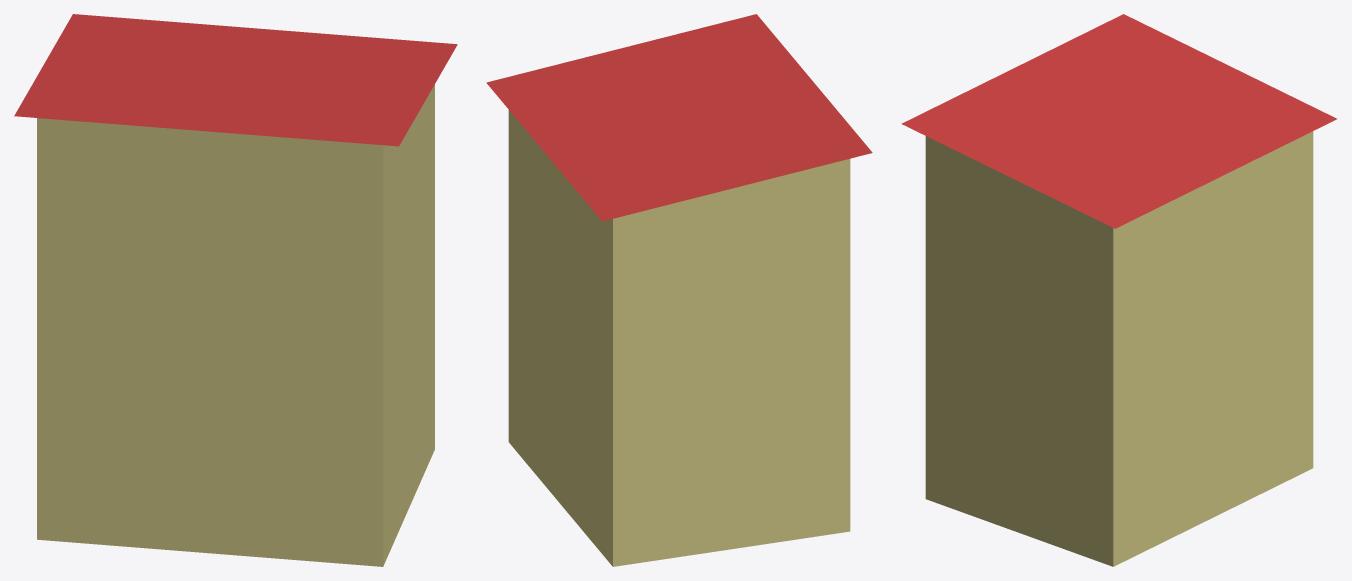
The picture shows the model from 3 angles, left to right: view 1: azimuth 30°, elevation 25°; view 2: azimuth 150°, elevation 25°; view 3: azimuth 270°, elevation 25°; orthographic projection. The views are drawn at different scales.
Size of the model in its own units: 6.43 by 6.33 by 6.02.
